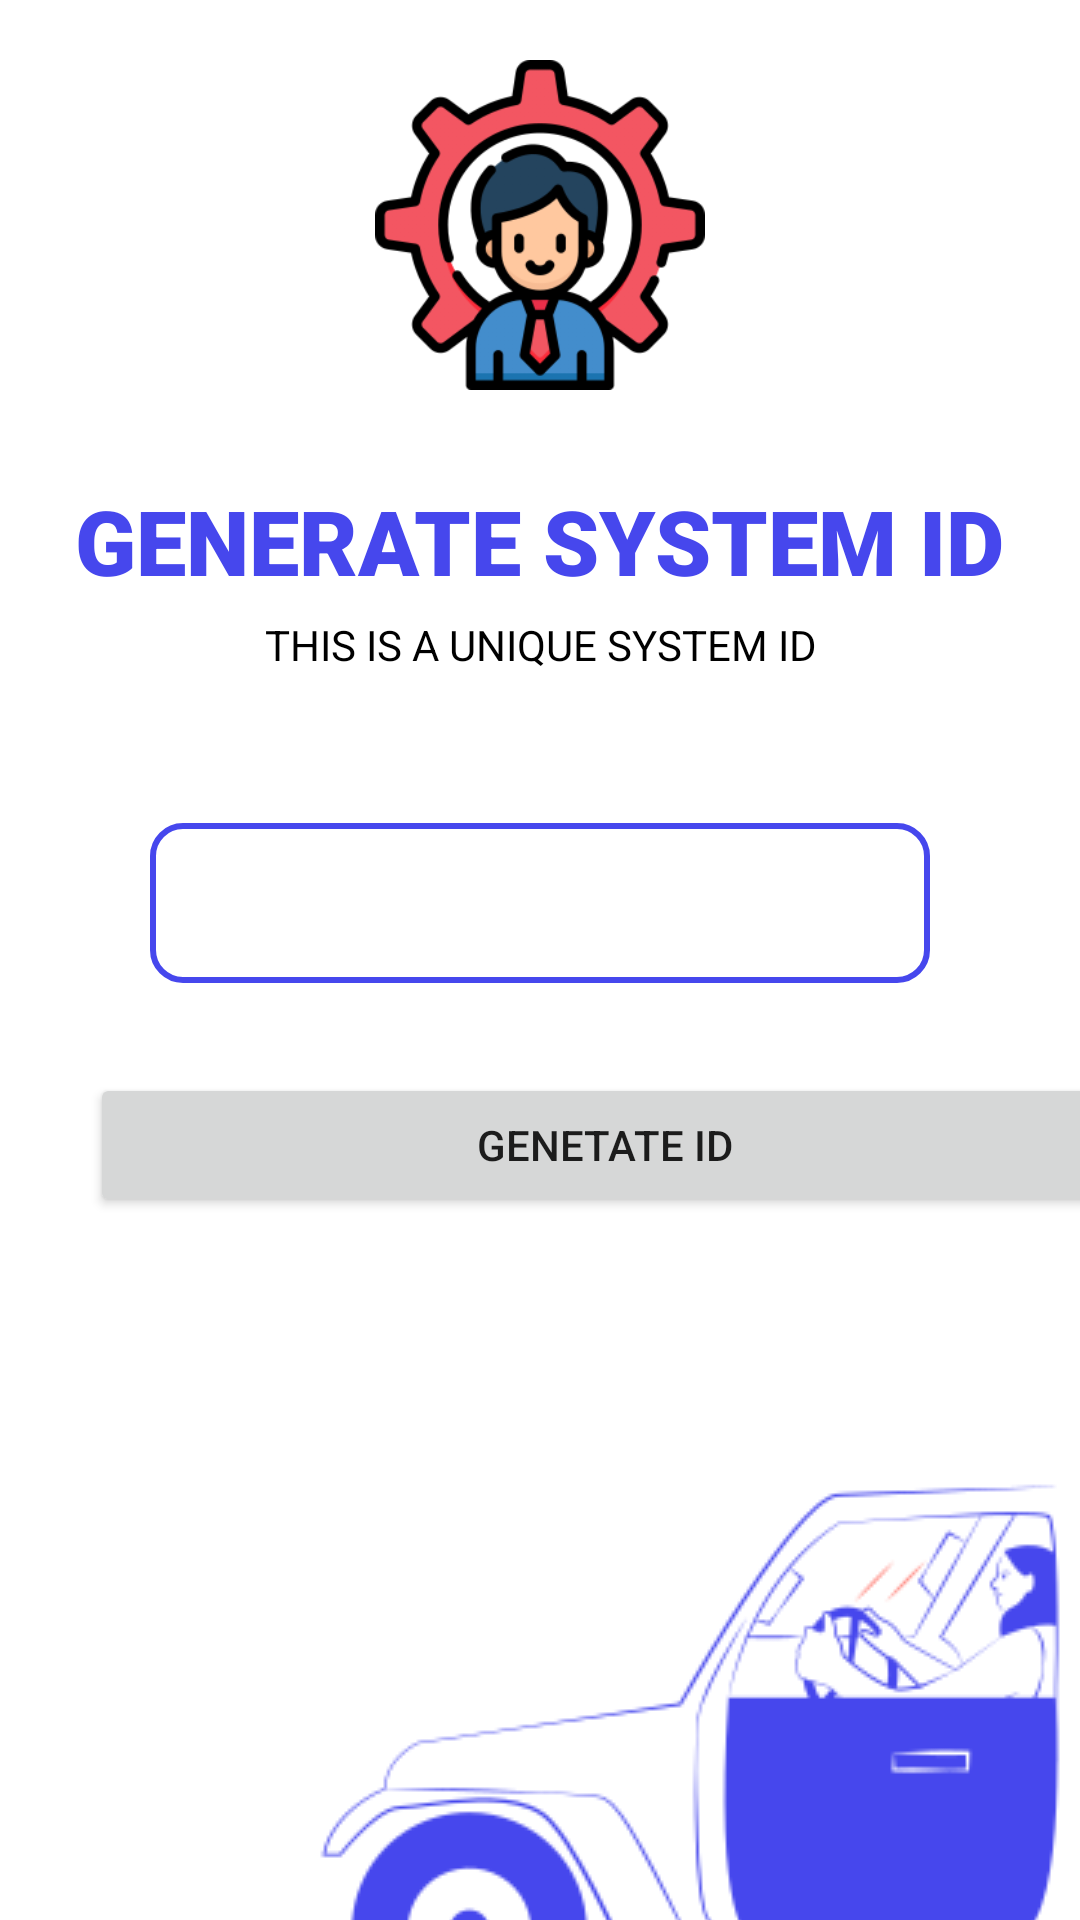

Screen size 1080x1920. Icon name, then its center in pixels as point (x, y):
manager: point (540, 225)
